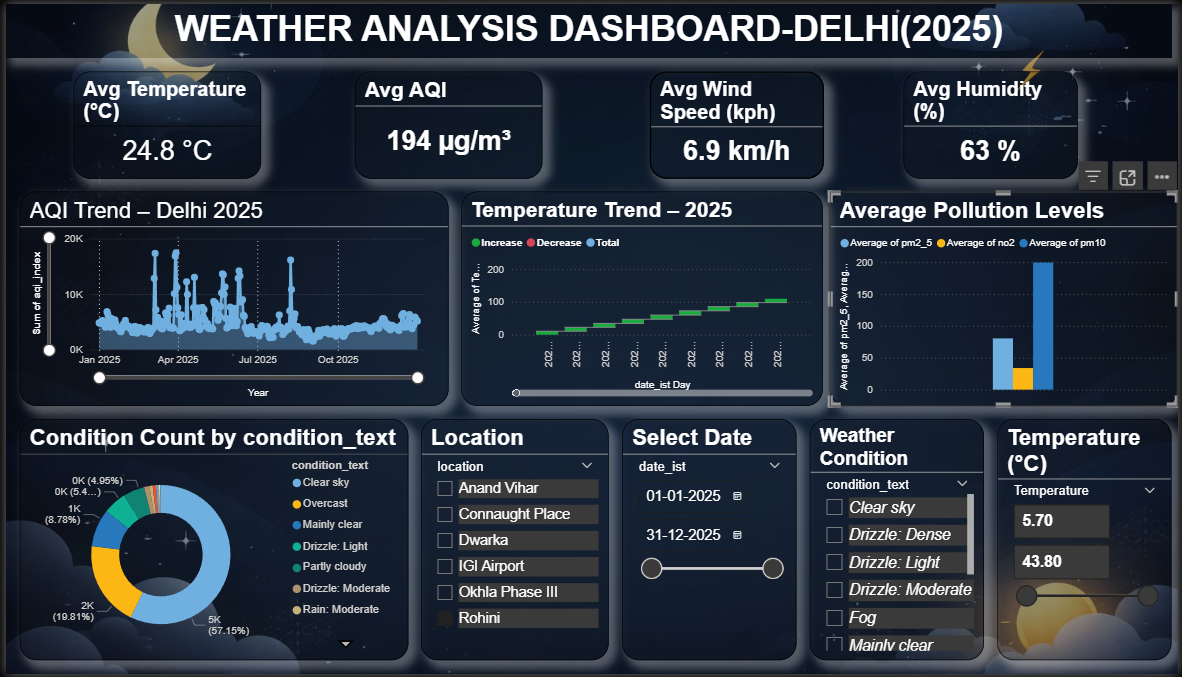

This screenshot's page, from the dashboard's own definition file:
{"tool":"powerbi","page":{"name":"Page 1","canvas":[1400,800],"ordinal":0},"visuals":[{"type":"card","title":"Avg AQI","fields":{"Values":["dataset.Avg AQI (µg/m³)"]},"box":[416,80,224,128],"z":0},{"type":"card","title":"Avg Humidity (%)","fields":{"Values":["dataset.Avg Humidity (%)"]},"box":[1072,80,208,128],"z":1000},{"type":"card","title":"Avg Wind Speed (kph)","fields":{"Values":["dataset.Avg Wind Speed (km/h)"]},"box":[768,80,208,128],"z":2000},{"type":"textbox","box":[0,0,1392,64],"z":3000},{"type":"card","title":"Avg Temperature (°C)","fields":{"Values":["dataset.Avg Temp (°C)"]},"box":[80,80,224,128],"z":4000},{"type":"waterfallChart","title":"Temperature Trend – 2025","fields":{"Category":["dataset.date_ist.Variation.Date Hierarchy.Year","dataset.date_ist.Variation.Date Hierarchy.Quarter","dataset.date_ist.Variation.Date Hierarchy.Month","dataset.date_ist.Variation.Date Hierarchy.Day"],"Y":["Avg(dataset.Temperature)"]},"box":[544,224,432,256],"z":5000},{"type":"stackedAreaChart","title":"AQI Trend – Delhi 2025","fields":{"Y":["Sum(dataset.aqi_index)"],"Category":["dataset.date_ist.Variation.Date Hierarchy.Year","dataset.date_ist.Variation.Date Hierarchy.Quarter","dataset.date_ist.Variation.Date Hierarchy.Month","dataset.date_ist.Variation.Date Hierarchy.Day"]},"box":[16,224,512,256],"z":6000},{"type":"clusteredColumnChart","title":"Average Pollution Levels","fields":{"Y":["Avg(dataset.pm2_5)","Avg(dataset.no2)","Avg(dataset.pm10)"]},"box":[984,224,416,256],"z":7000},{"type":"donutChart","fields":{"Category":["dataset.condition_text"],"Y":["dataset.Condition Count"]},"box":[16,496,464,288],"z":8000},{"type":"slicer","title":"Temperature (°C)","fields":{"Values":["dataset.Temperature"]},"box":[1184,496,208,288],"z":9000},{"type":"slicer","title":"Location","fields":{"Values":["dataset.location"]},"box":[496,496,224,288],"z":10000},{"type":"slicer","title":"Select Date","fields":{"Values":["dataset.date_ist"]},"box":[736,496,208,288],"z":11000},{"type":"slicer","title":"Weather Condition","fields":{"Values":["dataset.condition_text"]},"box":[960,496,208,288],"z":12000}]}

Visuals, with their boxes in screenshot pixels (x1, y1, x2, y2), scaled from the page's 1400x800 canvas onto the 1182x677 screenshot:
"Avg AQI" card: detection(351, 68, 540, 176)
"Avg Humidity (%)" card: detection(905, 68, 1081, 176)
"Avg Wind Speed (kph)" card: detection(648, 68, 824, 176)
textbox: detection(0, 0, 1175, 54)
"Avg Temperature (°C)" card: detection(68, 68, 257, 176)
"Temperature Trend – 2025" waterfallChart: detection(459, 190, 824, 406)
"AQI Trend – Delhi 2025" stackedAreaChart: detection(14, 190, 446, 406)
"Average Pollution Levels" clusteredColumnChart: detection(831, 190, 1181, 406)
donutChart - dataset.condition_text x dataset.Condition Count: detection(14, 420, 405, 663)
"Temperature (°C)" slicer: detection(1000, 420, 1175, 663)
"Location" slicer: detection(419, 420, 608, 663)
"Select Date" slicer: detection(621, 420, 797, 663)
"Weather Condition" slicer: detection(811, 420, 986, 663)
